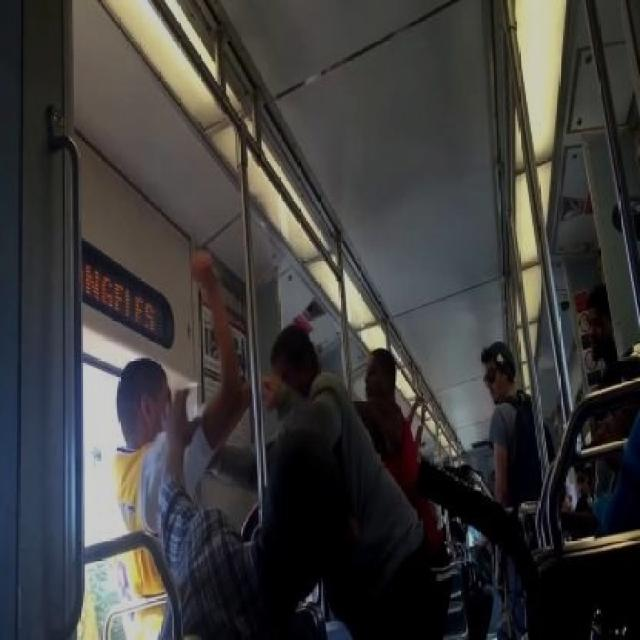fight: (109, 240, 442, 638)
non-fight: (476, 338, 556, 638), (352, 347, 444, 570)
